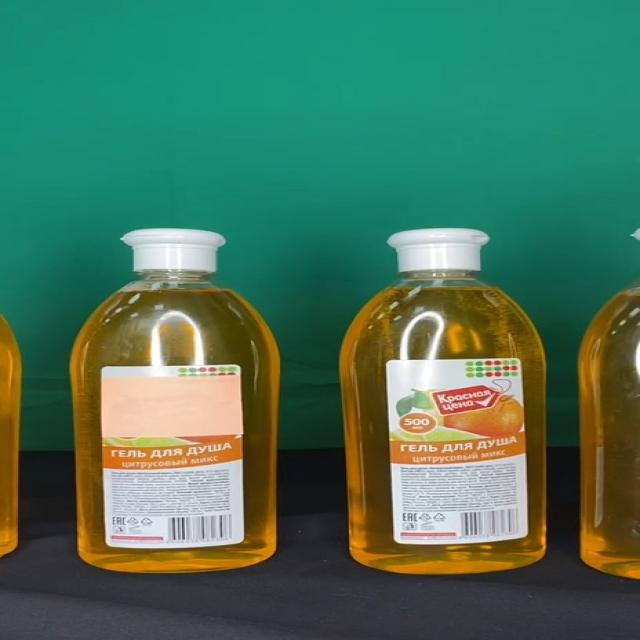Bottle: (69, 227, 279, 574), (339, 228, 545, 573)
Cap: (120, 229, 224, 272), (386, 228, 490, 270)
